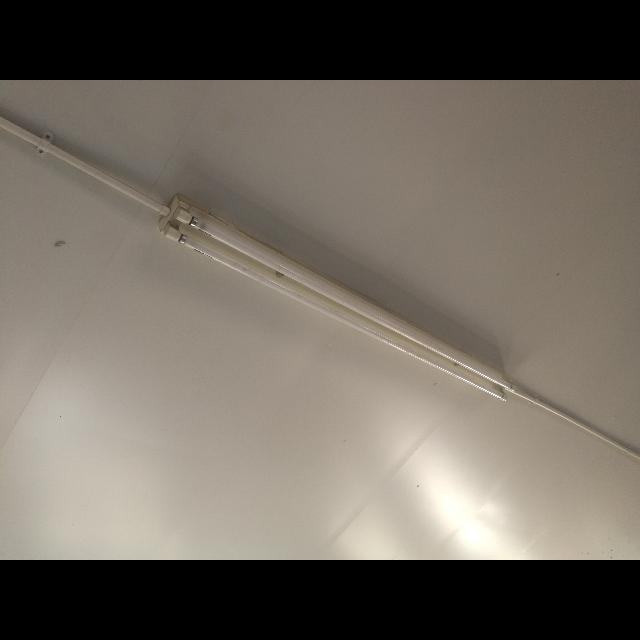Straight-Tube-Fluorescent-Lamp: (140, 185, 530, 418)
